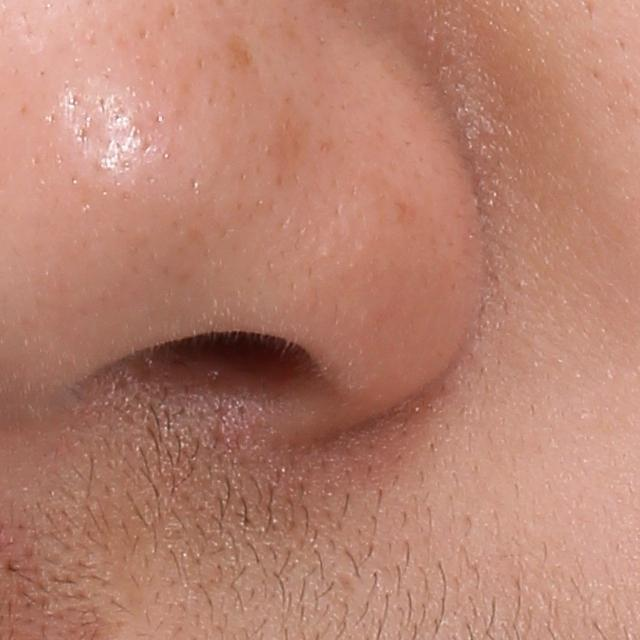melasma: (262, 106, 311, 184), (226, 30, 259, 75)
